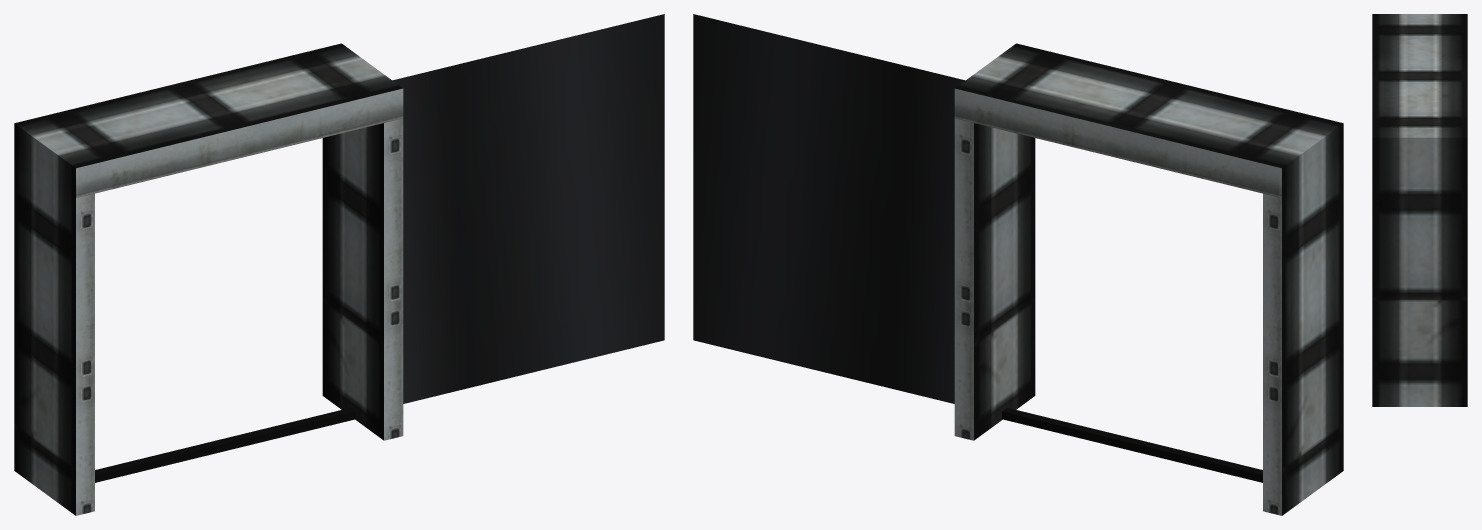
Rendered from porta-automatica.fbx.
3 renders of one model, left to right at view 1: azimuth 30°, elevation 25°; view 2: azimuth 150°, elevation 25°; view 3: azimuth 270°, elevation 25°, orthographic. The views are drawn at different scales.
Visible parts, largest first — view 1: glass.001_Untitled.003, Cube_Cube.001; view 2: glass.001_Untitled.003, Cube_Cube.001; view 3: Cube_Cube.001.
Part boxes in pixels (<box>): glass.001_Untitled.003: <box>392,14,664,403</box>; Cube_Cube.001: <box>14,43,403,515</box>; glass.001_Untitled.003: <box>693,14,965,403</box>; Cube_Cube.001: <box>954,43,1343,515</box>; Cube_Cube.001: <box>1372,14,1467,406</box>.
Size of the model in its own units: 5.7 by 3.06 by 0.9818.
